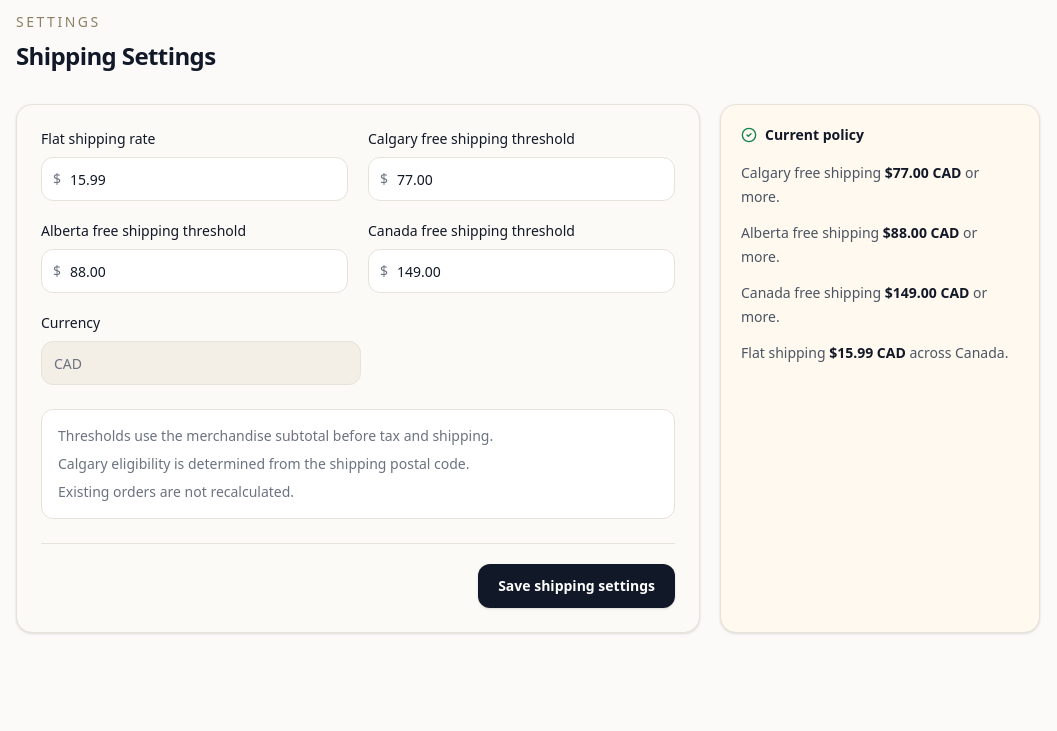
Test: AdminShippingSettingsPage › renders a destructive alert on save request error
The image size is (1057, 731).
Click the button "Save shipping settings": (577,586) [478, 564, 675, 608]
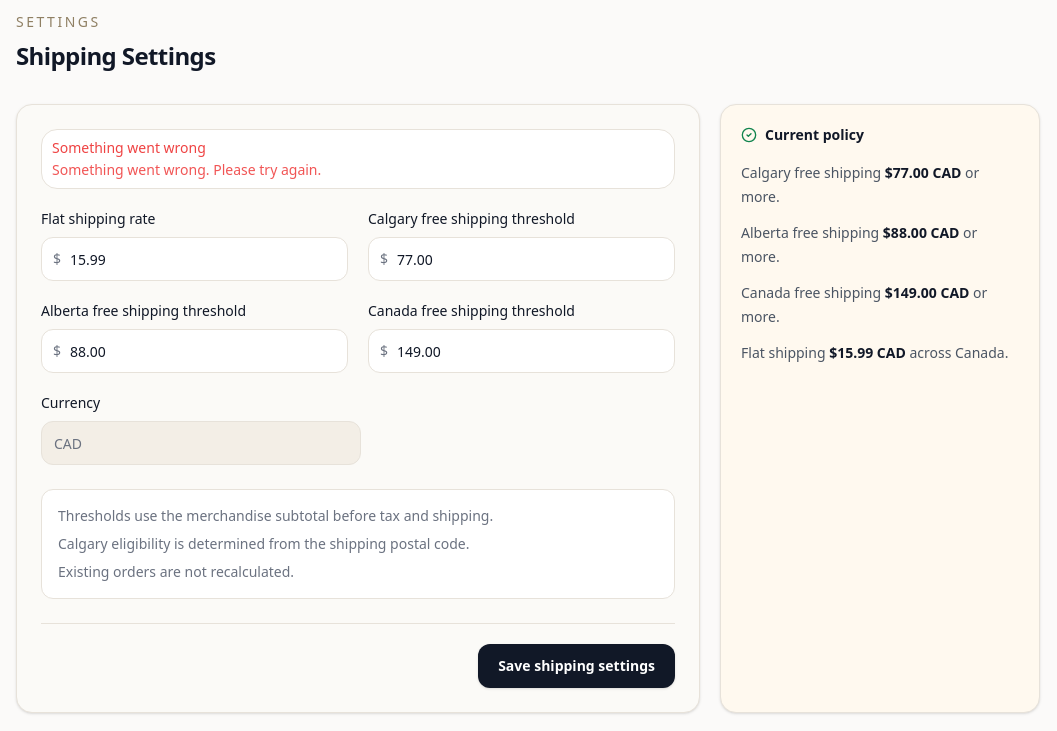
Check: the message shows "Something went wrong", box [52, 138, 206, 157]
Check: the message shows "Something went wrong. Please try again.", box [52, 160, 321, 179]
